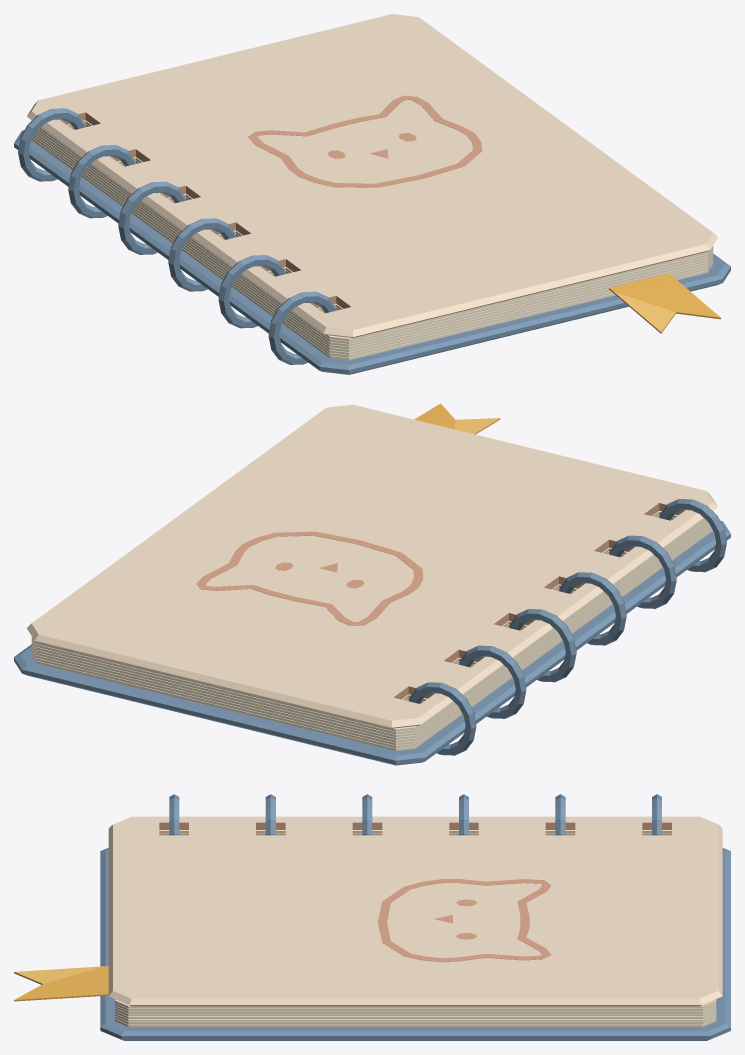
File: notebook.glb
The picture shows the model from 3 angles, top to bottom: view 1: azimuth 30°, elevation 25°; view 2: azimuth 150°, elevation 25°; view 3: azimuth 270°, elevation 25°; orthographic projection. The views are drawn at different scales.
Visible parts, largest first — view 1: 02 米杏色封面, 03 八层纸页, 01 灰蓝色底封, 04 六个灰蓝色装订环, 05 浅桃色猫脸图案, 06 金黄色燕尾书签; view 2: 02 米杏色封面, 03 八层纸页, 01 灰蓝色底封, 04 六个灰蓝色装订环, 05 浅桃色猫脸图案, 06 金黄色燕尾书签; view 3: 02 米杏色封面, 03 八层纸页, 01 灰蓝色底封, 05 浅桃色猫脸图案, 04 六个灰蓝色装订环, 06 金黄色燕尾书签.
Part boxes in pixels (x1,y1,x2,y2): 02 米杏色封面: (27,14,717,337); 03 八层纸页: (32,120,713,360); 01 灰蓝色底封: (14,130,730,374); 04 六个灰蓝色装订环: (18,108,335,364); 05 浅桃色猫脸图案: (248,95,482,187); 06 金黄色燕尾书签: (609,273,720,333); 02 米杏色封面: (27,404,717,728); 03 八层纸页: (31,511,712,750); 01 灰蓝色底封: (14,520,730,765); 04 六个灰蓝色装订环: (409,499,726,755); 05 浅桃色猫脸图案: (196,531,423,625); 06 金黄色燕尾书签: (414,403,500,434); 02 米杏色封面: (108,816,722,1006); 03 八层纸页: (115,830,716,1026); 01 灰蓝色底封: (100,848,730,1040); 05 浅桃色猫脸图案: (378,879,551,962); 04 六个灰蓝色装订环: (169,794,661,835); 06 金黄色燕尾书签: (14,966,108,1001).
Bounding box in the file's own units: 2.33 × 0.37 × 3.44.
